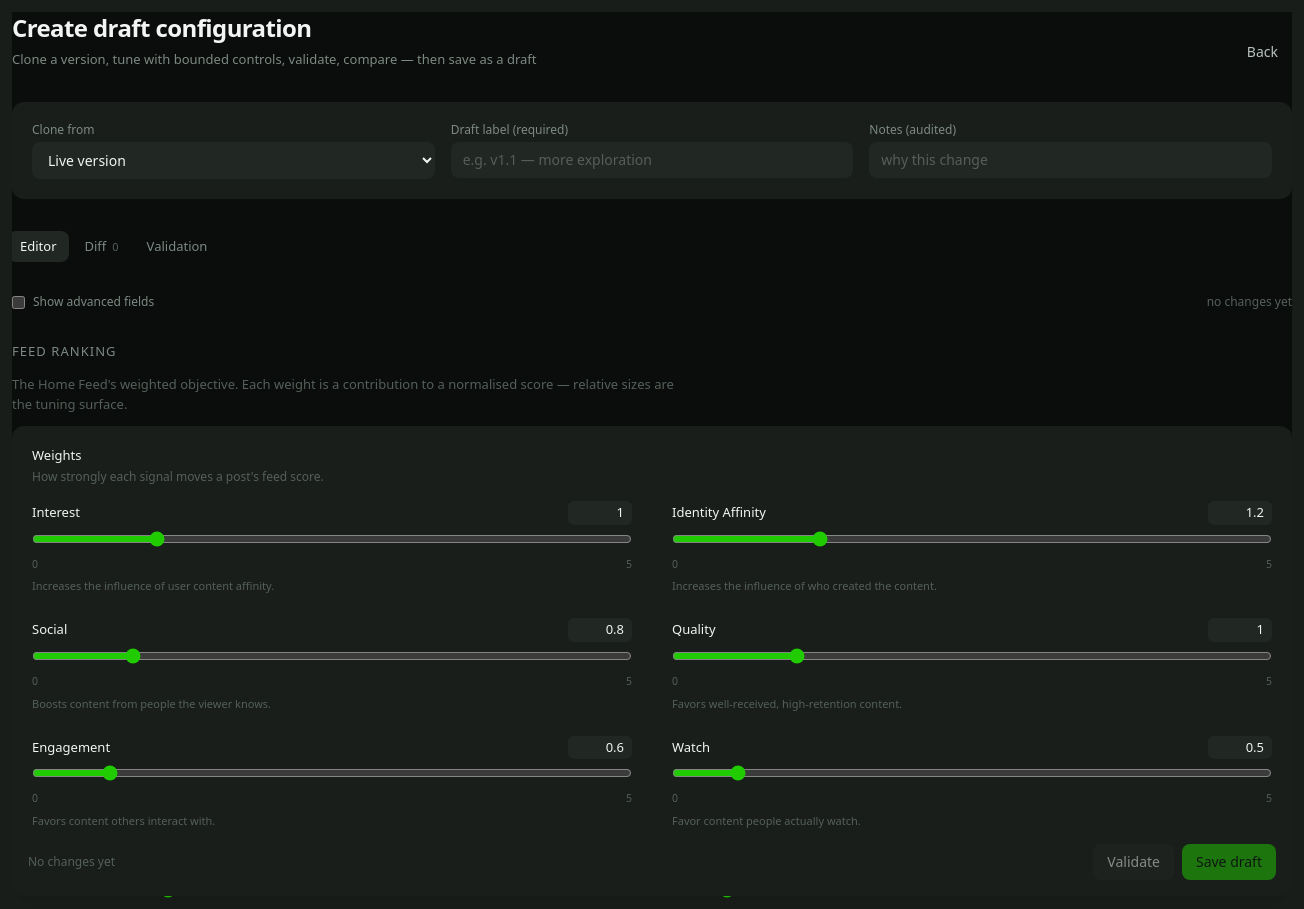
Configuration draft editor › shows the live value of a field and marks it changed once edited
This screenshot has width=1304, height=909.
Expected: the text "changed" is not shown
Replace the text in the field named "Interest numeric value" with "1.45". click: [600, 513]
box: 568,501 -> 632,524
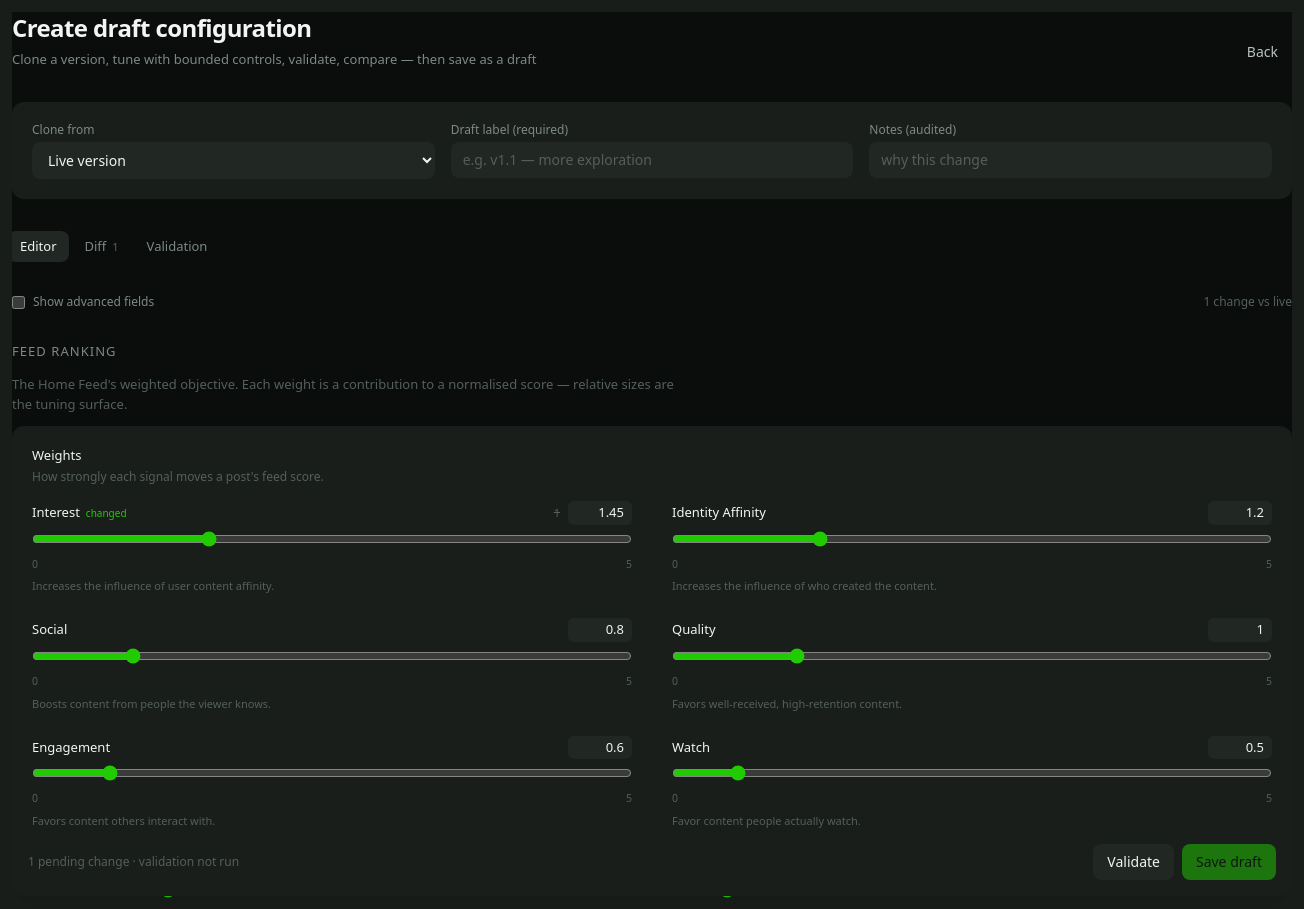
Expected: the text "changed" is shown, 86,506 -> 126,520
